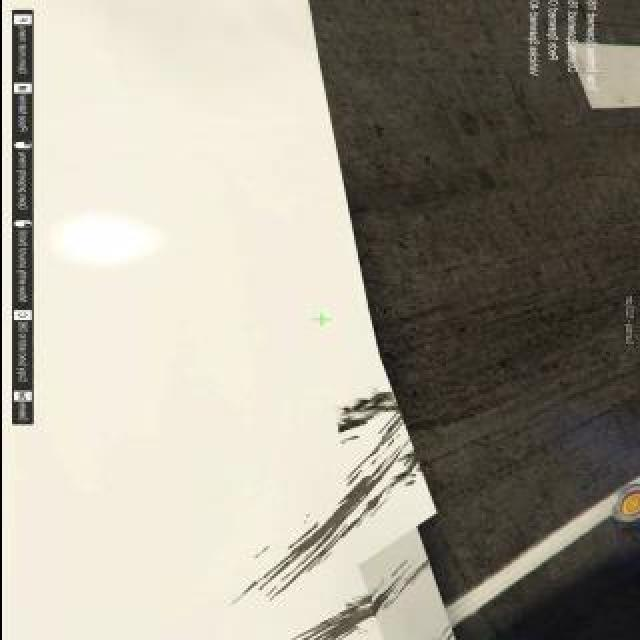dent: (291, 479, 377, 554), (329, 589, 391, 633), (338, 392, 395, 432), (363, 418, 404, 463)
